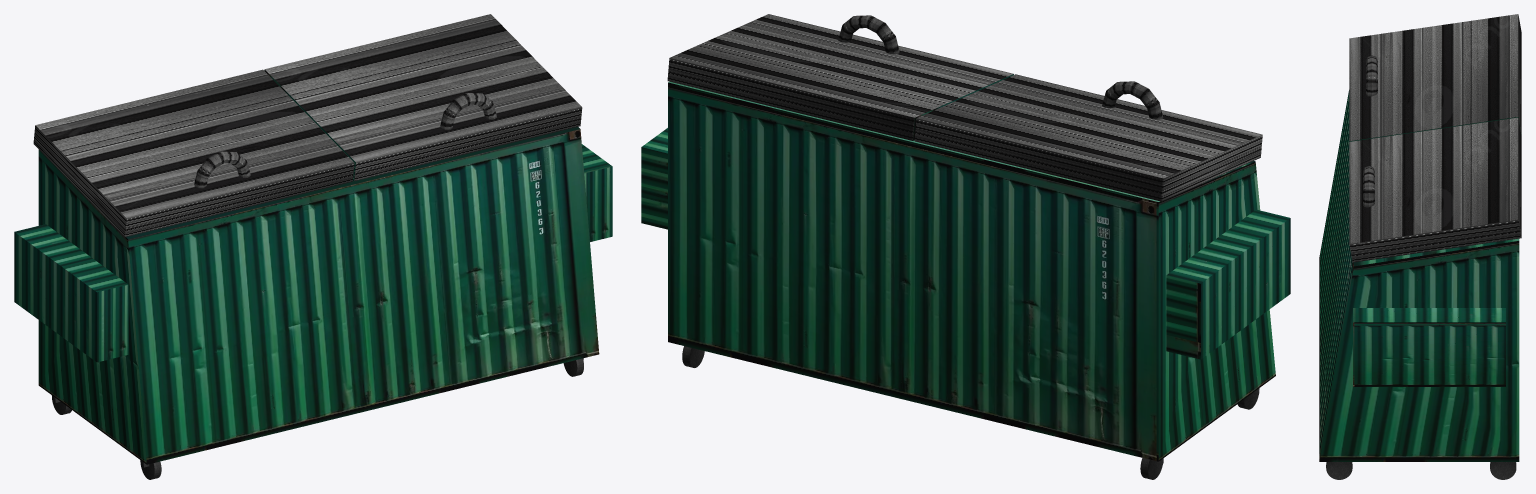
The model's file is contenedor.fbx.
3 views of the same model, side by side, from view 1: azimuth 30°, elevation 25°; view 2: azimuth 150°, elevation 25°; view 3: azimuth 270°, elevation 25° (orthographic). The views are drawn at different scales.
Parts seen in each view (by area): view 1: Cube.008; view 2: Cube.008; view 3: Cube.008.
Part boxes in pixels (bbox=[...]): Cube.008: bbox=[14, 14, 612, 479]; Cube.008: bbox=[641, 14, 1290, 479]; Cube.008: bbox=[1319, 14, 1521, 479].
Size of the model in its own units: 246 by 133 by 90.29.
3 materials, 3 textured.
